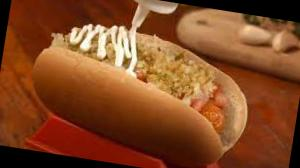Completos: (21, 12, 252, 168)
